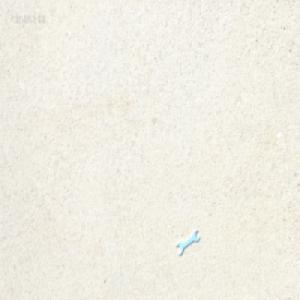Wrench: (176, 229, 201, 256)
